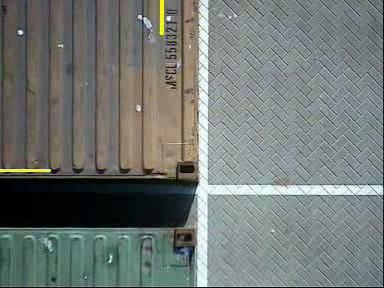groundmarker_2: (201, 37, 272, 154), (199, 234, 244, 288)
